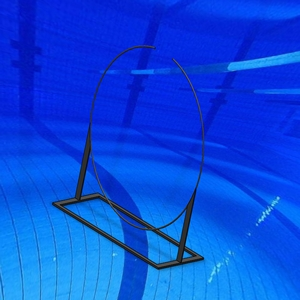circle: (52, 44, 206, 271)
